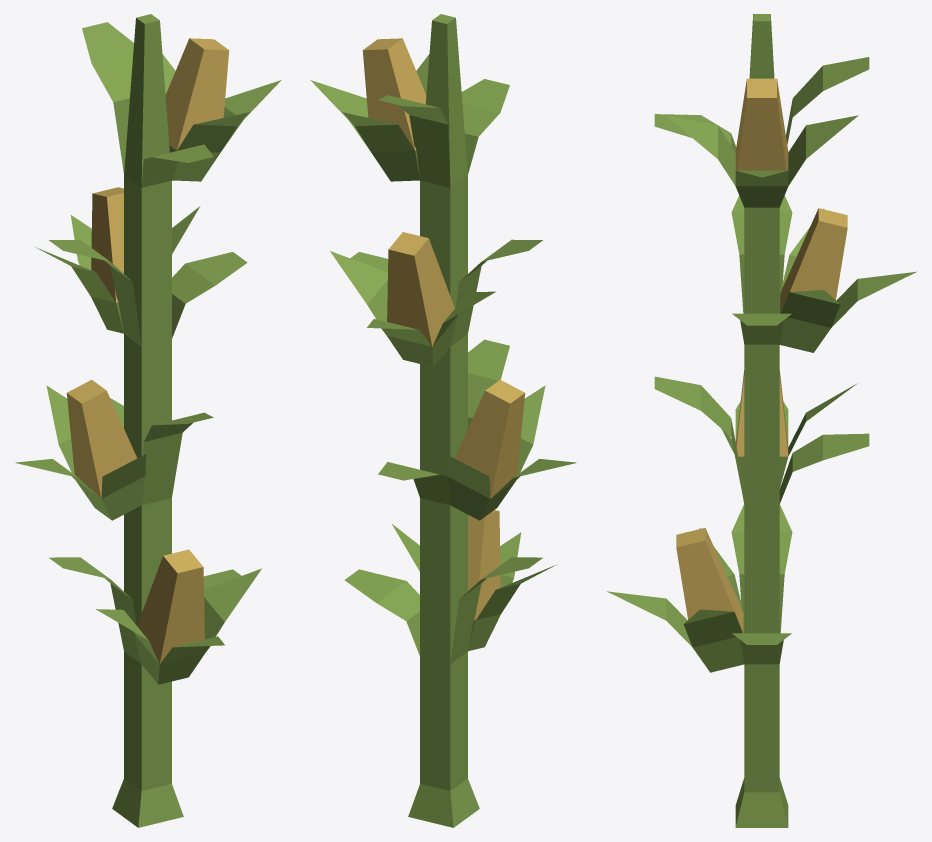
Rendered from crops_cornStageD.glb.
The picture shows the model from 3 angles, left to right: view 1: azimuth 30°, elevation 25°; view 2: azimuth 150°, elevation 25°; view 3: azimuth 270°, elevation 25°; orthographic projection.
Visible parts, largest first — view 1: crops_cornStageD, corn (×4); view 2: crops_cornStageD, corn (×4); view 3: crops_cornStageD, corn (×4).
Boxes of the visible parts, x1,y1,x2,y2 form: crops_cornStageD: (49,14,247,827); corn (×4): (15,38,281,684); crops_cornStageD: (344,14,542,827); corn (×4): (310,38,576,651); crops_cornStageD: (654,14,869,827); corn (×4): (607,78,916,672).
Bounding box in the file's own units: 0.4416 × 1.25 × 0.4416.
